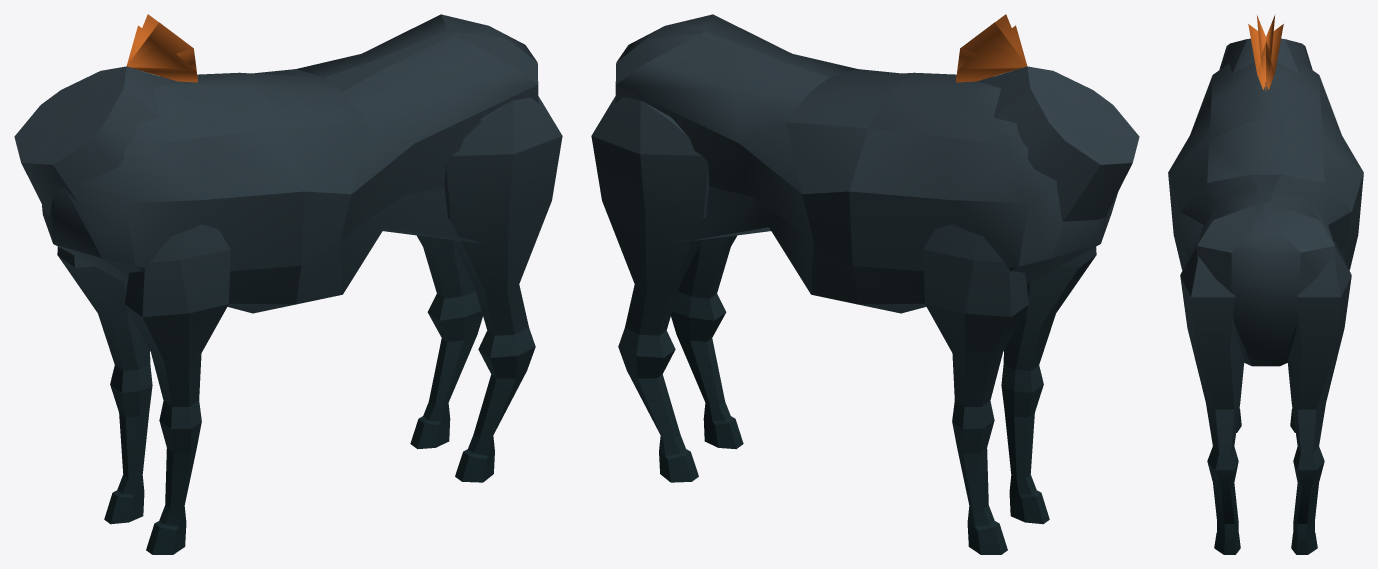
Rendered from SM_Horse_Body.fbx.
The picture shows the model from 3 angles, left to right: view 1: azimuth 30°, elevation 25°; view 2: azimuth 150°, elevation 25°; view 3: azimuth 270°, elevation 25°; orthographic projection. The views are drawn at different scales.
Parts seen in each view (by area): view 1: SM_Horse_Body; view 2: SM_Horse_Body; view 3: SM_Horse_Body.
Part boxes in pixels (bbox=[...]): SM_Horse_Body: bbox=[14, 14, 562, 554]; SM_Horse_Body: bbox=[591, 14, 1139, 554]; SM_Horse_Body: bbox=[1168, 14, 1363, 554].
Bounding box in the file's own units: 84.85 × 82.56 × 35.17.
